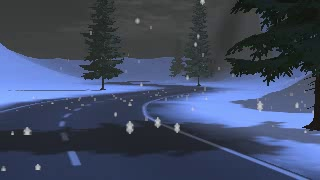Lane: (1, 86, 303, 178)
